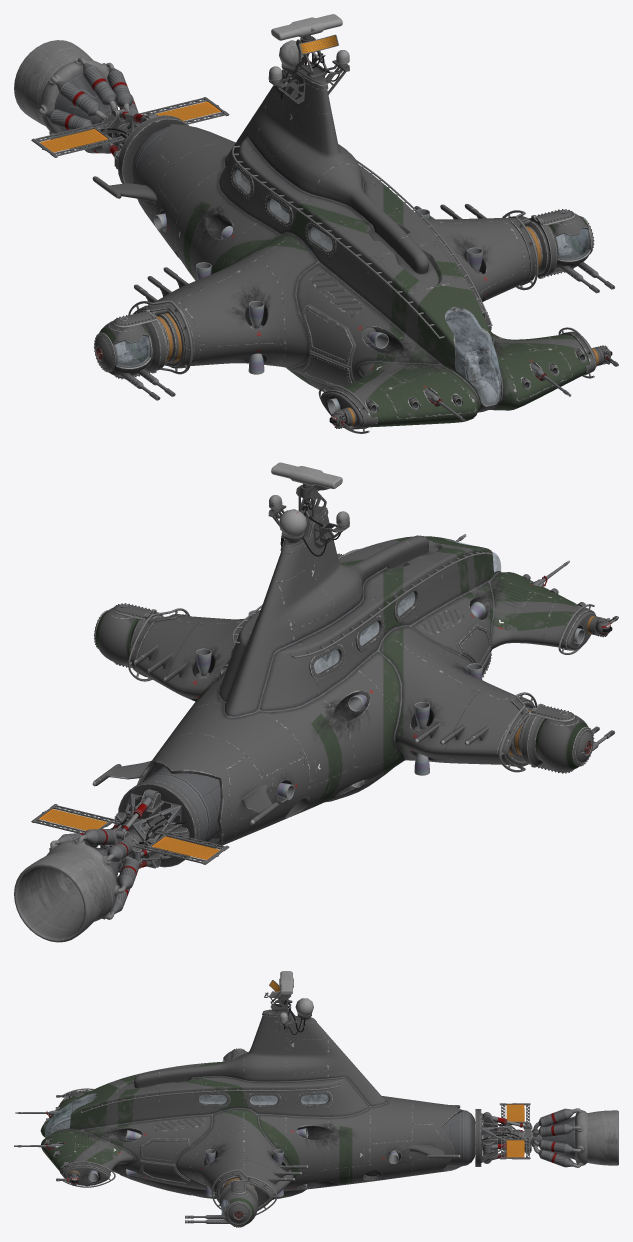
File: 1794742371341_hammerhead_space_fighter.glb
3 renders of one model, top to bottom at view 1: azimuth 30°, elevation 25°; view 2: azimuth 150°, elevation 25°; view 3: azimuth 270°, elevation 25°, orthographic. The views are drawn at different scales.
Visible parts, largest first — view 1: HullA.009, Nozzle_low, HullA.004, Rail_low, Radiator1_low.001, HullA.017, Cube.007, Cylinder.006, Comms1_low, Tank_low, Ball_low.001, HullA.008 (+16 smaller); view 2: HullA.009, Nozzle_low, Tank_low, Radiator1_low.001, HullA.017, Cylinder.006, Rail_low, Ball_low.001, Piston_low, Ball_low, Comms1_low, Truss_low (+4 smaller); view 3: HullA.009, Nozzle_low, Tank_low, Cube.007, HullA.017, Radiator1_low.001, Rail_low, Piston_low, Cylinder.006, HullA.008, HullA.004, HullA.006 (+8 smaller).
Part boxes in pixels (x1,y1,x2,y2): HullA.009: (92, 69, 596, 427); Nozzle_low: (14, 40, 128, 140); HullA.004: (445, 307, 500, 406); Rail_low: (128, 145, 594, 433); Radiator1_low.001: (31, 97, 229, 157); HullA.017: (134, 162, 536, 368); Cube.007: (301, 295, 489, 386); Cylinder.006: (154, 209, 485, 414); Comms1_low: (271, 14, 342, 76); Tank_low: (118, 115, 188, 183); Ball_low.001: (95, 321, 152, 376); HullA.008: (300, 269, 491, 388); HullA.009: (92, 507, 596, 848); Nozzle_low: (14, 840, 122, 942); Tank_low: (118, 766, 220, 867); Radiator1_low.001: (31, 804, 229, 864); HullA.017: (130, 586, 535, 766); Cylinder.006: (195, 602, 584, 799); Rail_low: (128, 543, 594, 772); Ball_low.001: (535, 715, 592, 771); Piston_low: (100, 789, 189, 872); Ball_low: (95, 608, 138, 663); Comms1_low: (271, 462, 342, 517); Truss_low: (119, 793, 181, 861); HullA.009: (40, 1009, 461, 1210); Nozzle_low: (524, 1110, 618, 1165); Tank_low: (442, 1109, 481, 1166); Cube.007: (140, 1137, 190, 1184); HullA.017: (195, 1091, 332, 1210); Radiator1_low.001: (498, 1103, 532, 1159); Rail_low: (60, 1061, 341, 1215); Piston_low: (483, 1112, 531, 1163); Cylinder.006: (88, 1128, 399, 1196); HullA.008: (140, 1138, 189, 1185); HullA.004: (45, 1093, 96, 1137); HullA.006: (199, 1094, 328, 1104).
Size of the model in its own units: 19.37 by 12.5 by 32.03.
6 materials, 5 textured.
